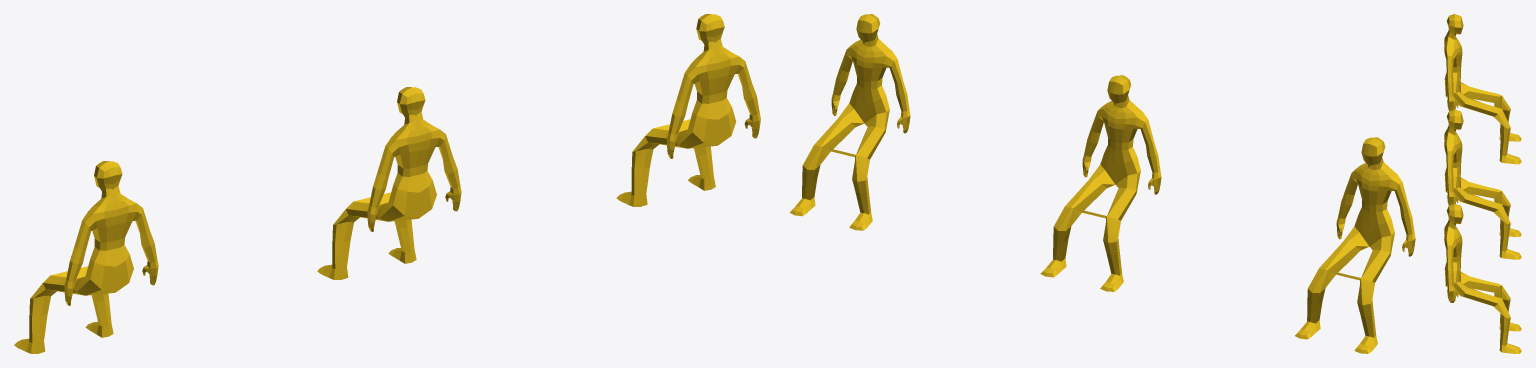
Rendered from row_1.glb.
The picture shows the model from 3 angles, left to right: view 1: azimuth 30°, elevation 25°; view 2: azimuth 150°, elevation 25°; view 3: azimuth 270°, elevation 25°; orthographic projection. The views are drawn at different scales.
Parts seen in each view (by area): view 1: Student, Student.001, Student.002; view 2: Student, Student.001, Student.002; view 3: Student.002, Student, Student.001.
Part boxes in pixels (x1,y1,x2,y2): Student: (14, 161, 158, 353); Student.001: (317, 87, 461, 279); Student.002: (616, 14, 760, 206); Student: (1295, 137, 1415, 353); Student.001: (1040, 75, 1161, 291); Student.002: (789, 14, 910, 230); Student.002: (1444, 203, 1521, 353); Student: (1444, 14, 1521, 164); Student.001: (1444, 109, 1521, 259).
Bounding box in the file's own units: 4.6 × 1.34 × 0.6906.
